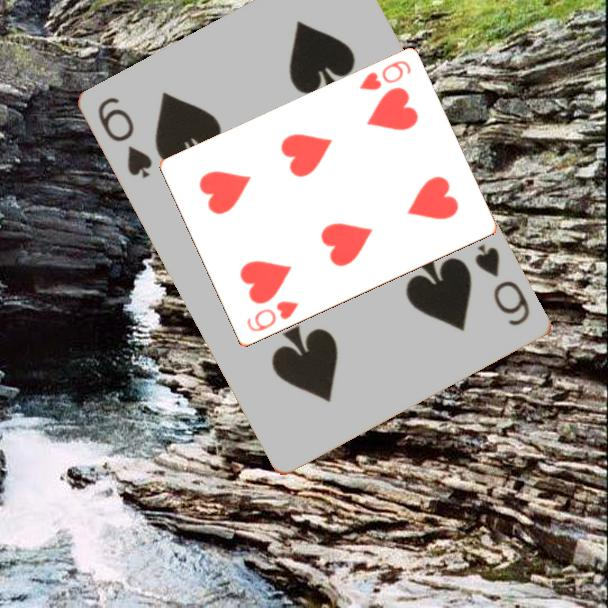h06: (243, 298, 302, 335), (355, 57, 414, 94)
s06: (472, 240, 534, 329), (94, 93, 156, 182)
